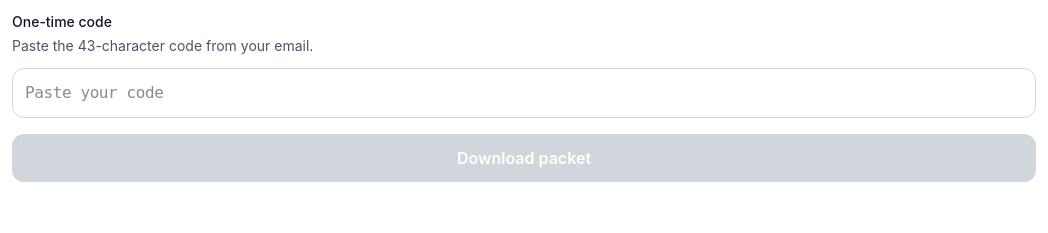
Test: refusals are coarse and the input is still cleared › shows a message for EXPIRED
Type "Zm9vYmFyYmF6cXV1eGNvcmdlZ3JhdWx0Z2FycGx5Z2g" into the field labelled "One-time code".
click(524, 93); type("Zm9vYmFyYmF6cXV1eGNvcmdlZ3JhdWx0Z2FycGx5Z2g")  # box [12, 68, 1036, 118]
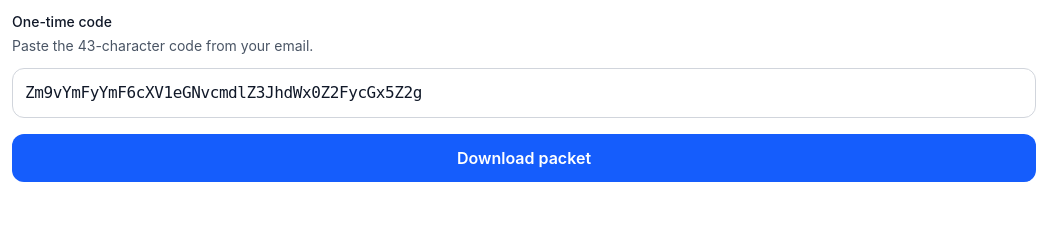
Click the button "Download packet".
click(524, 158)  # box [12, 134, 1036, 182]
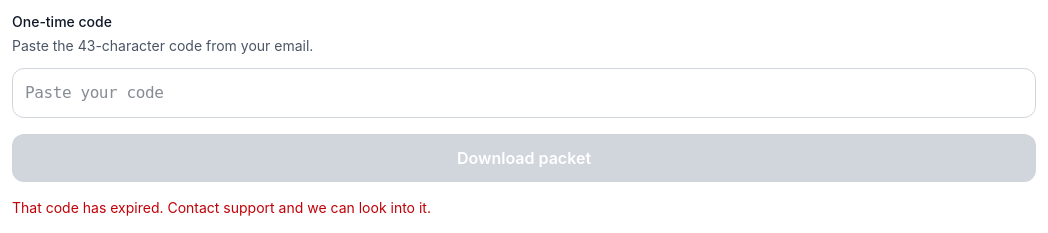
Check: the text "expired" is shown, box [12, 199, 431, 216]
Check: the field labelled "One-time code" is empty, box [12, 68, 1036, 118]
